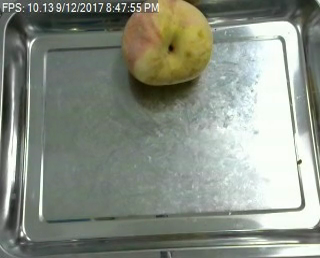Peach: (122, 0, 213, 86)
